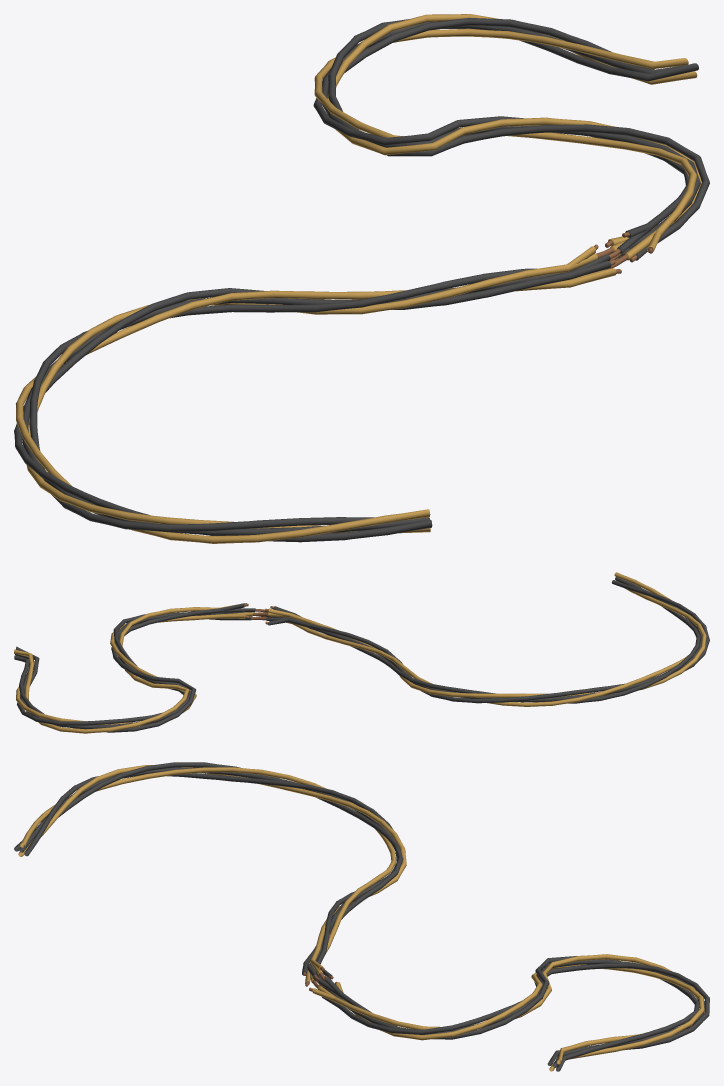
The model's file is wireFBX.fbx.
3 views of the same model, one above another, from view 1: azimuth 30°, elevation 25°; view 2: azimuth 150°, elevation 25°; view 3: azimuth 270°, elevation 25° (orthographic). The views are drawn at different scales.
Parts seen in each view (by area): view 1: solid, cut; view 2: solid, cut; view 3: solid, cut.
Part boxes in pixels (box(x1,y1,x2,y2)): solid: box(14, 14, 709, 543); cut: box(567, 223, 661, 287); solid: box(14, 572, 709, 733); cut: box(219, 603, 294, 625); solid: box(14, 762, 709, 1071); cut: box(302, 959, 343, 1007).
Size of the model in its own units: 8.58 by 0.2722 by 8.42.
